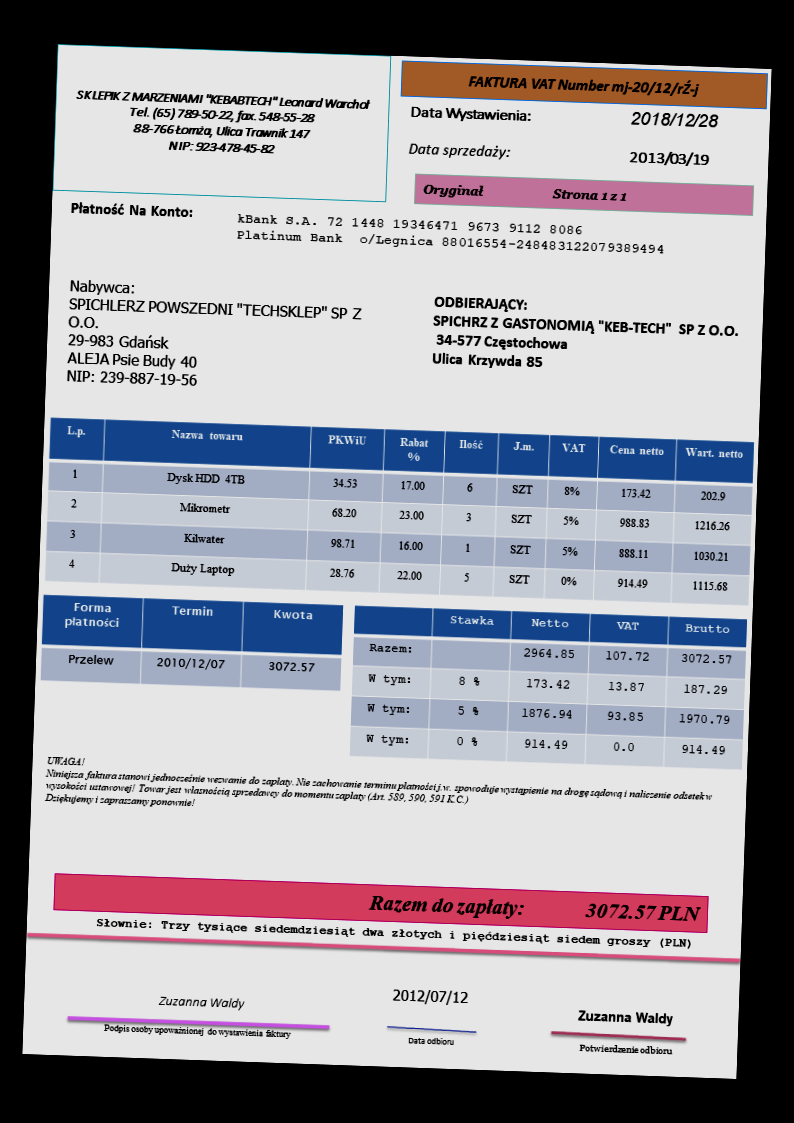Table: (42, 413, 757, 609), (347, 602, 750, 771), (39, 591, 345, 692)
TextBox: (43, 752, 717, 829), (64, 276, 365, 396), (427, 292, 742, 379), (72, 85, 375, 162), (93, 914, 694, 951), (233, 209, 668, 258), (365, 889, 704, 927), (466, 72, 703, 99), (420, 179, 630, 208), (100, 1019, 294, 1042), (407, 100, 535, 127), (403, 137, 514, 163), (68, 199, 197, 221), (628, 107, 721, 134), (574, 1004, 677, 1028), (577, 1037, 675, 1060), (154, 990, 248, 1012), (387, 984, 470, 1008), (625, 148, 712, 169), (404, 1031, 457, 1050)
